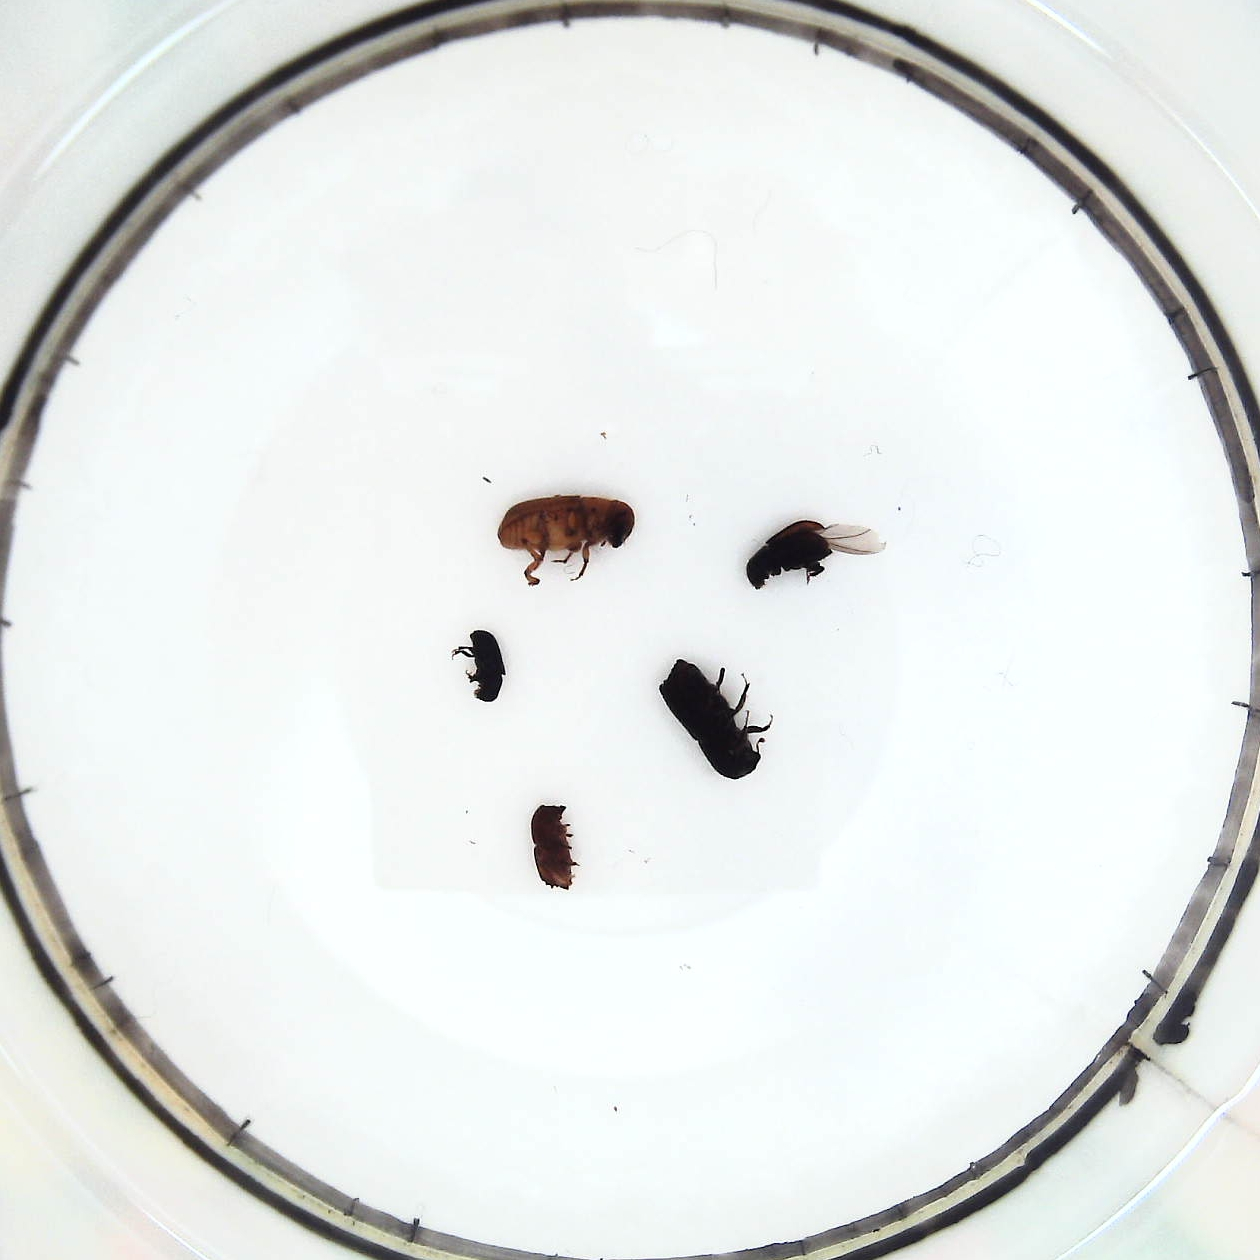Boerner: (659, 653, 777, 783)
Leconte: (500, 494, 644, 584)
armandi: (738, 519, 883, 584)
coleoptera: (449, 627, 512, 706)
linnaeus: (527, 798, 582, 897)
